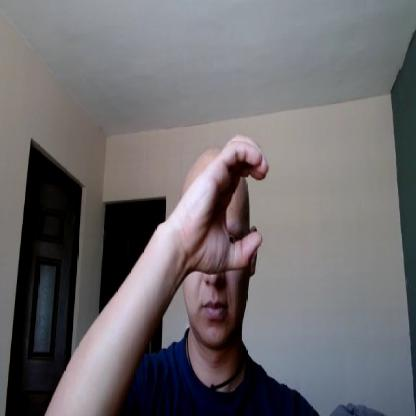C: (190, 134, 269, 271)
